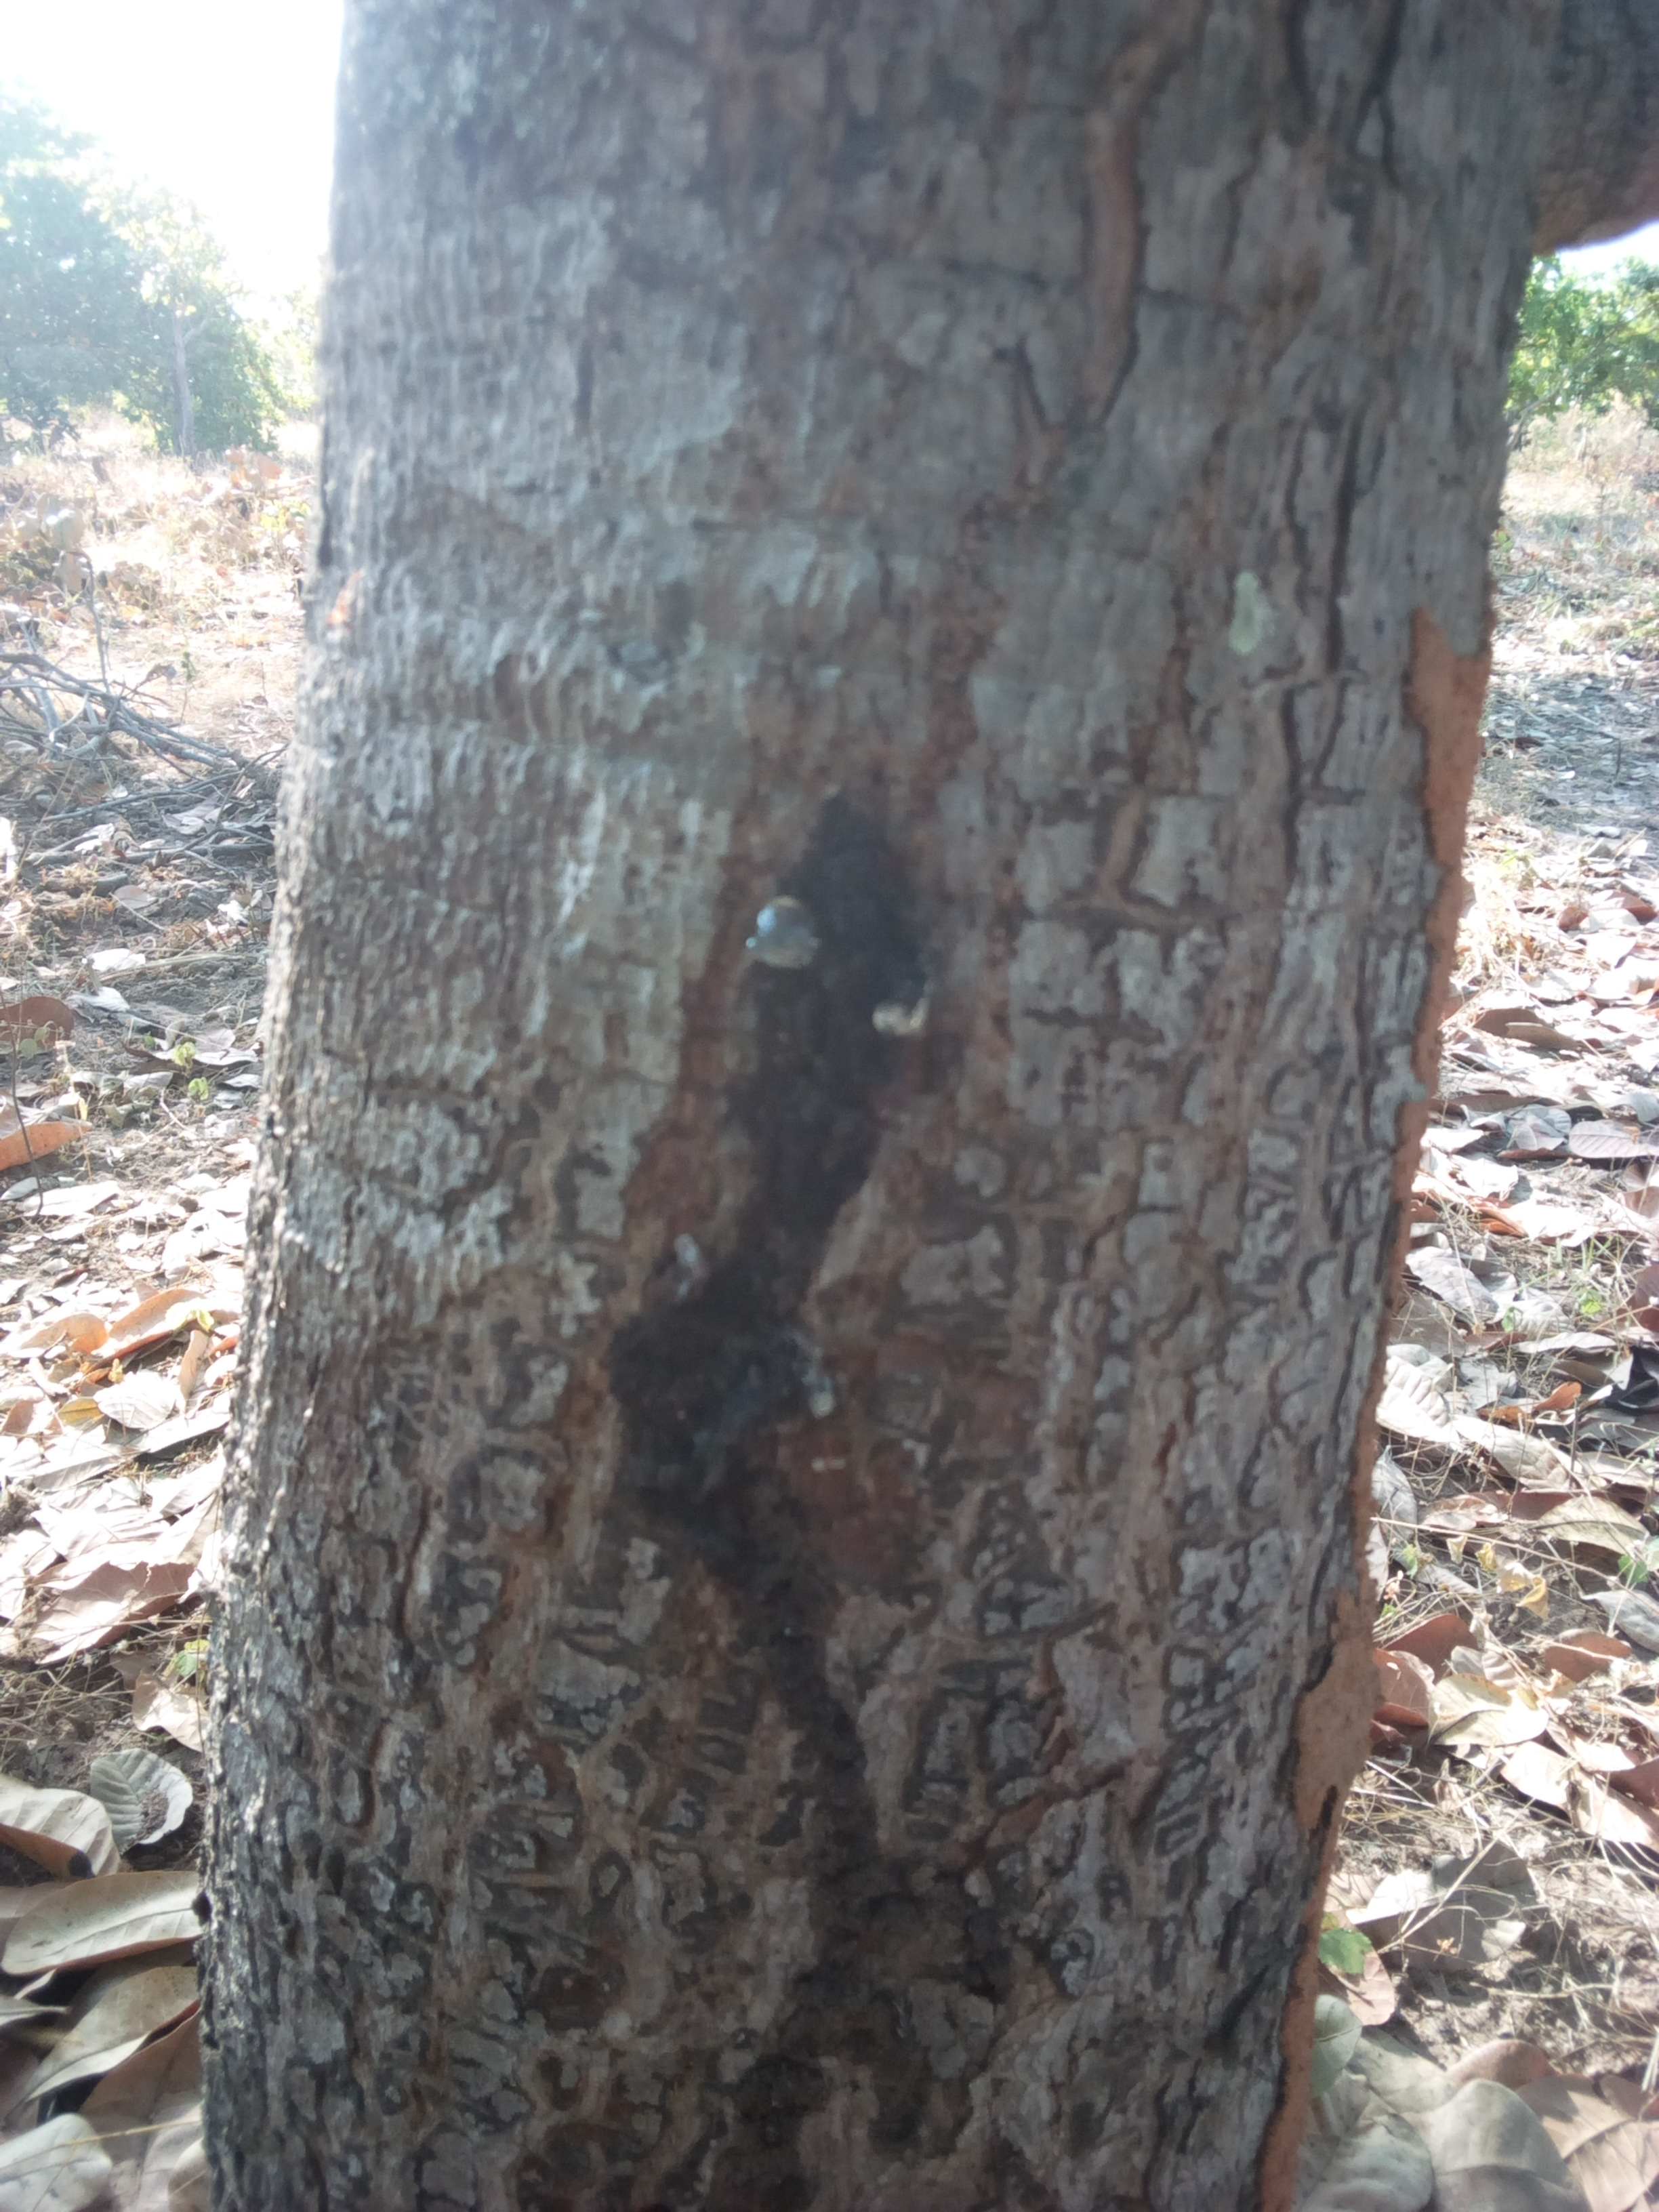Gommose: (599, 815, 1016, 2212)
